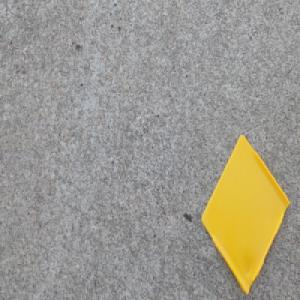PlasticPart: (200, 133, 291, 297)
